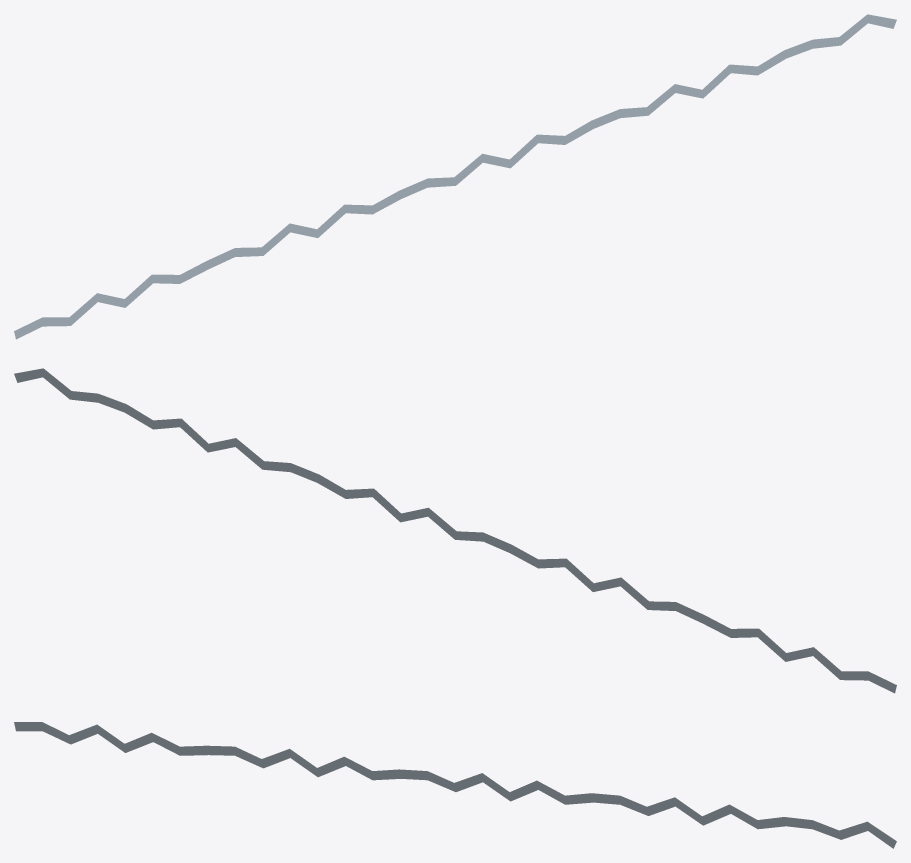
File: 2085_ThunderWave_1Round_OneGroundThunderPath_29.fbx
3 views of the same model, one above another, from view 1: azimuth 30°, elevation 25°; view 2: azimuth 150°, elevation 25°; view 3: azimuth 330°, elevation 25° (orthographic).
Parts seen in each view (by area): view 1: PART_OneGroundThunderPath_29; view 2: PART_OneGroundThunderPath_29; view 3: PART_OneGroundThunderPath_29.
Part boxes in pixels (<box>): PART_OneGroundThunderPath_29: <box>14,14,896,339</box>; PART_OneGroundThunderPath_29: <box>14,368,896,693</box>; PART_OneGroundThunderPath_29: <box>14,722,896,848</box>.
Bounding box in the file's own units: 907 × 115 × 1.88e-05.
